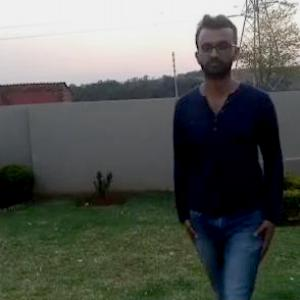follow: (173, 10, 293, 299)
